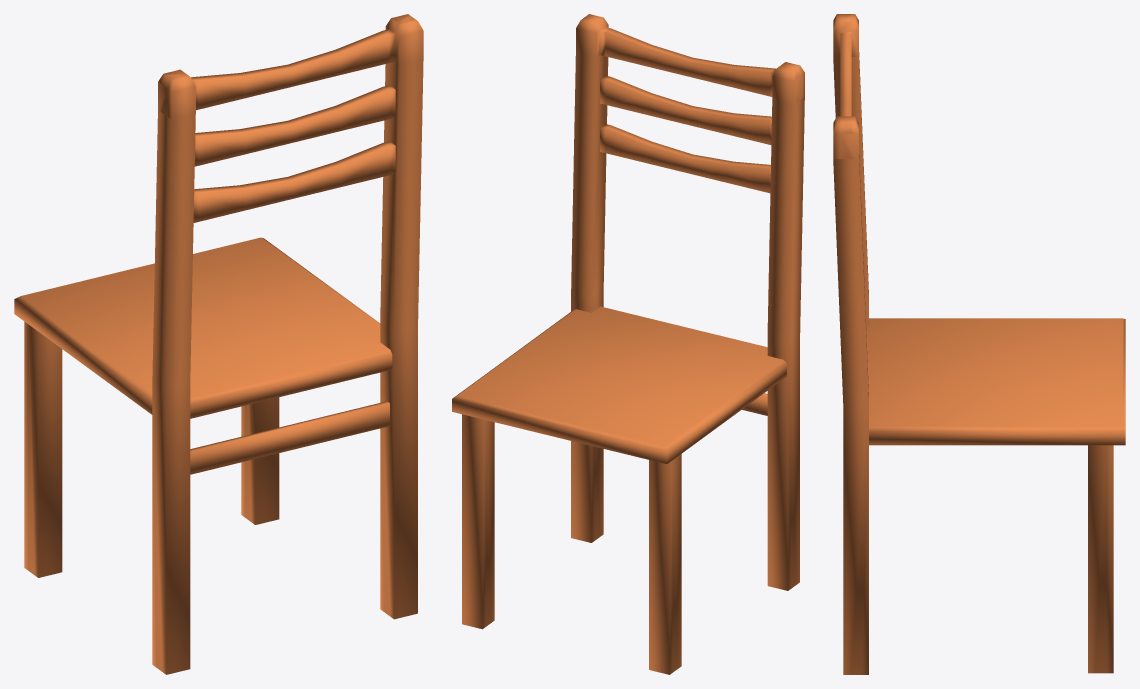
The model's file is Chair2.fbx.
3 renders of one model, left to right at view 1: azimuth 30°, elevation 25°; view 2: azimuth 150°, elevation 25°; view 3: azimuth 270°, elevation 25°, orthographic. The views are drawn at different scales.
Parts seen in each view (by area): view 1: Chair2; view 2: Chair2; view 3: Chair2.
Boxes of the visible parts, x1,y1,x2,y2 form: Chair2: (14,14,423,674); Chair2: (452,14,804,674); Chair2: (833,14,1125,674).
Size of the model in its own units: 375 by 851 by 410.
